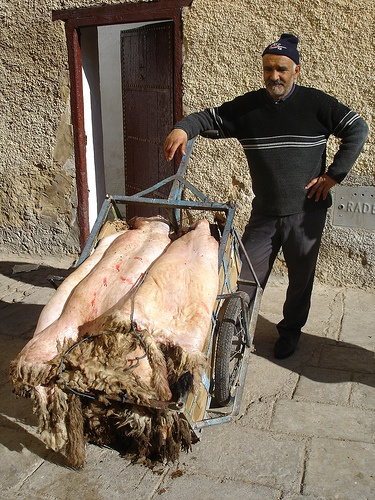head: (261, 54, 300, 97)
person: (162, 34, 365, 353)
